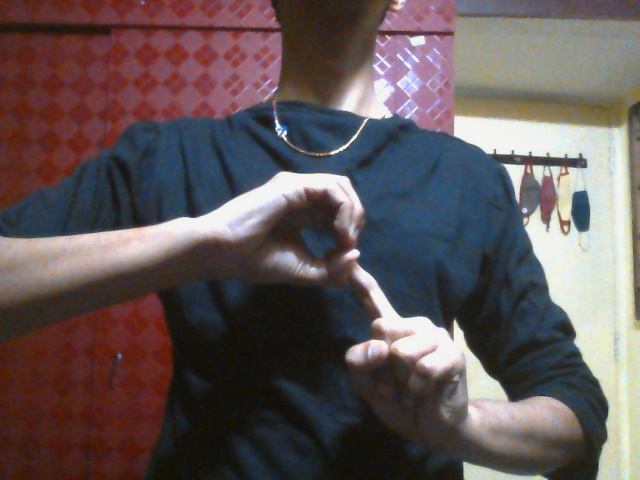Q: (224, 169, 462, 467)
